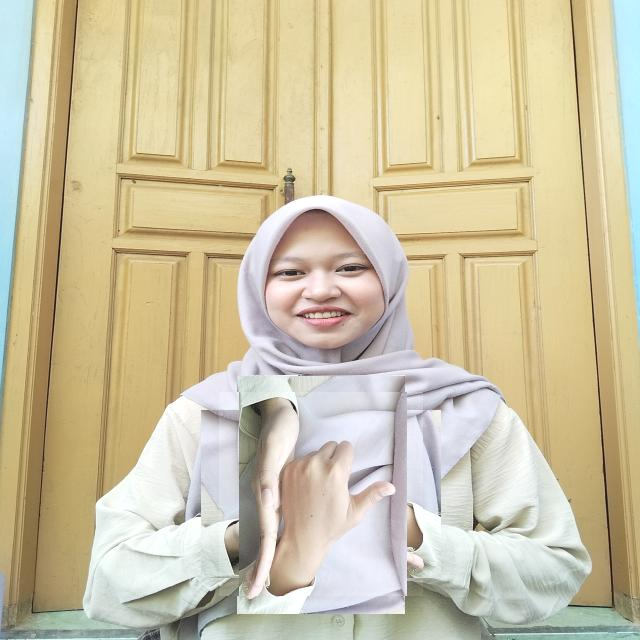cantik: (218, 392, 422, 596)
